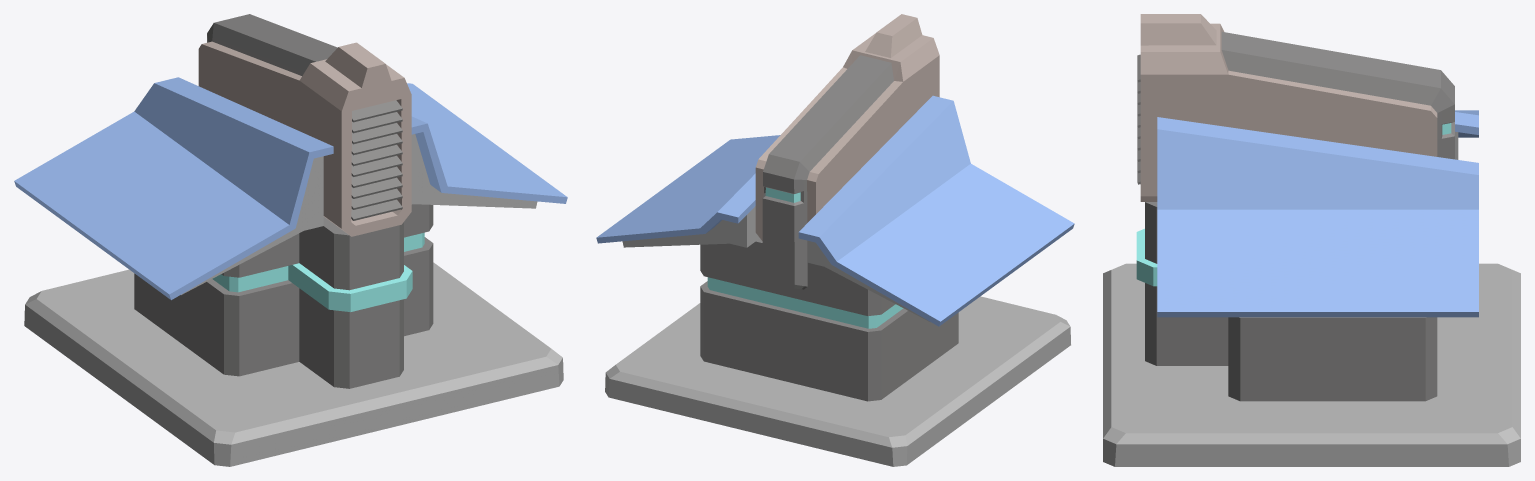
File: City_defense_base.fbx
3 views of the same model, side by side, from view 1: azimuth 30°, elevation 25°; view 2: azimuth 150°, elevation 25°; view 3: azimuth 270°, elevation 25° (orthographic). The views are drawn at different scales.
Parts seen in each view (by area): view 1: mesh_city_defense_generator; view 2: mesh_city_defense_generator; view 3: mesh_city_defense_generator.
Part boxes in pixels (left/top/right/bottom): mesh_city_defense_generator: left=14, top=14, right=567, bottom=466; mesh_city_defense_generator: left=596, top=14, right=1074, bottom=466; mesh_city_defense_generator: left=1103, top=14, right=1520, bottom=466.
Size of the model in its own units: 11.41 by 9.51 by 10.
